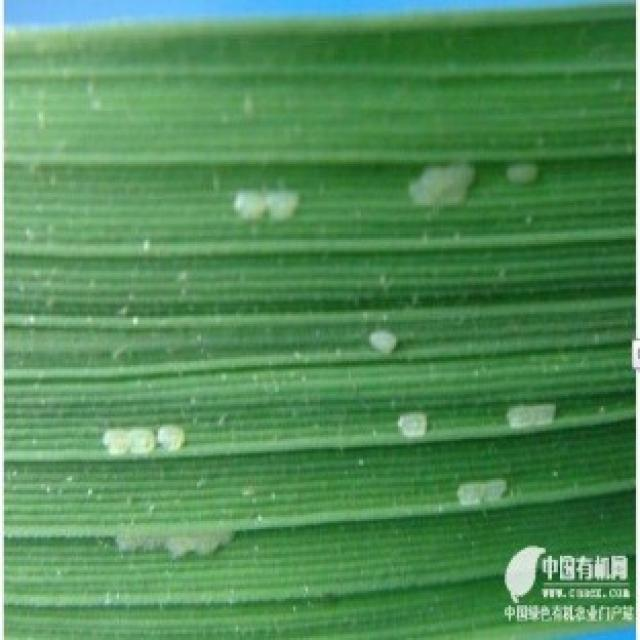rice leaf roller: (115, 523, 232, 556), (408, 164, 472, 203), (103, 425, 183, 455), (234, 189, 297, 217), (459, 480, 505, 505), (509, 406, 552, 425), (369, 328, 396, 355), (398, 412, 425, 437), (507, 164, 535, 181)
